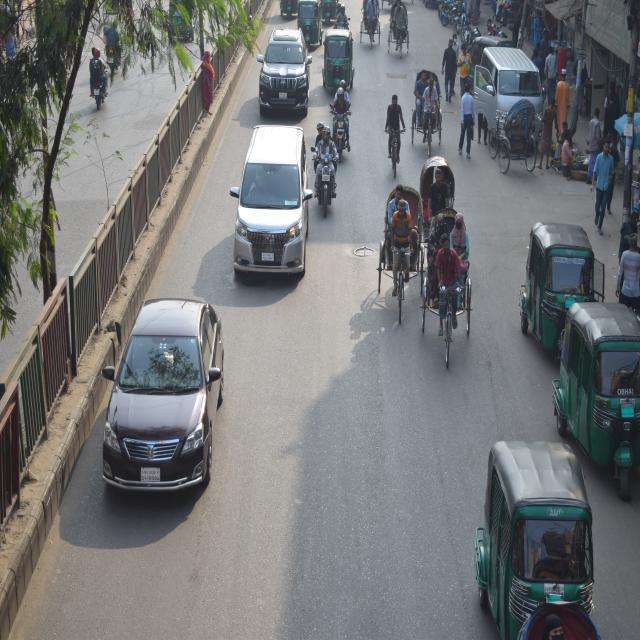car: (93, 295, 230, 498)
microbus: (241, 121, 307, 287), (478, 34, 542, 149), (257, 22, 307, 110)
motorbike: (85, 54, 115, 112), (317, 143, 338, 215), (332, 108, 352, 172), (107, 44, 120, 78)
